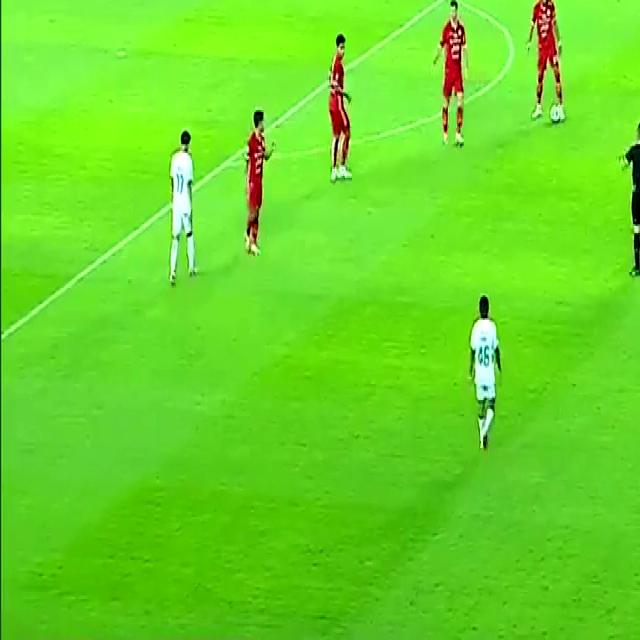ball: (547, 104, 564, 127)
referee: (614, 118, 640, 292)
soccer-player: (458, 286, 514, 459), (154, 125, 208, 293), (314, 29, 366, 191), (230, 103, 279, 266), (424, 0, 474, 155), (522, 0, 571, 105)
